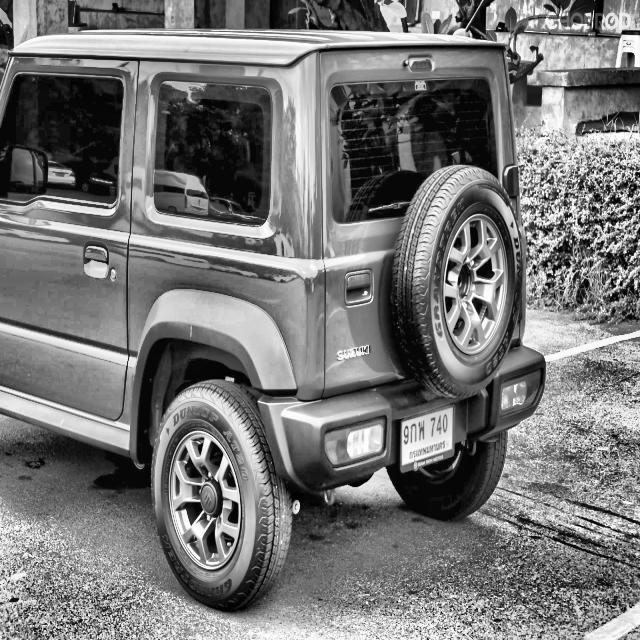license-plate: (394, 401, 456, 478)
